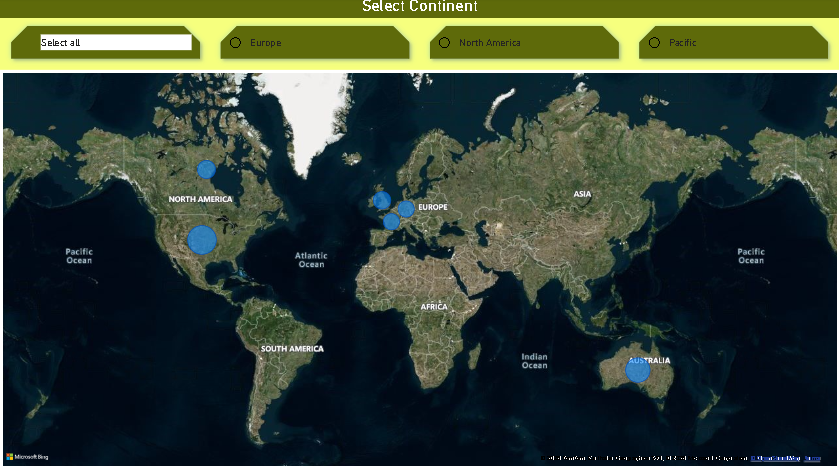

The page's visual inventory and layout, read from the dashboard file:
{"tool":"powerbi","page":{"name":"DASH2","canvas":[1280,720],"ordinal":6},"visuals":[{"type":"map","fields":{"Category":["Territory Lookup.Country"],"Size":["Measure_Table.Total_No_Orders"]},"box":[0,111.1,1279.7,608.8],"z":0},{"type":"advancedSlicerVisual","title":"Select Continent","fields":{"Values":["Territory Lookup.Continent"]},"box":[0,0,1279.7,111.1],"z":1000}]}

Visuals, with their boxes on the page's 1280x720 design canvas (x1, y1, x2, y2). These are canvas units, not pixel positions in the 839x467 screenshot, which may show the page scaled, cropped or inside an application window:
map - Territory Lookup.Country x Measure_Table.Total_No_Orders: (0, 111, 1280, 720)
"Select Continent" advancedSlicerVisual: (0, 0, 1280, 111)
